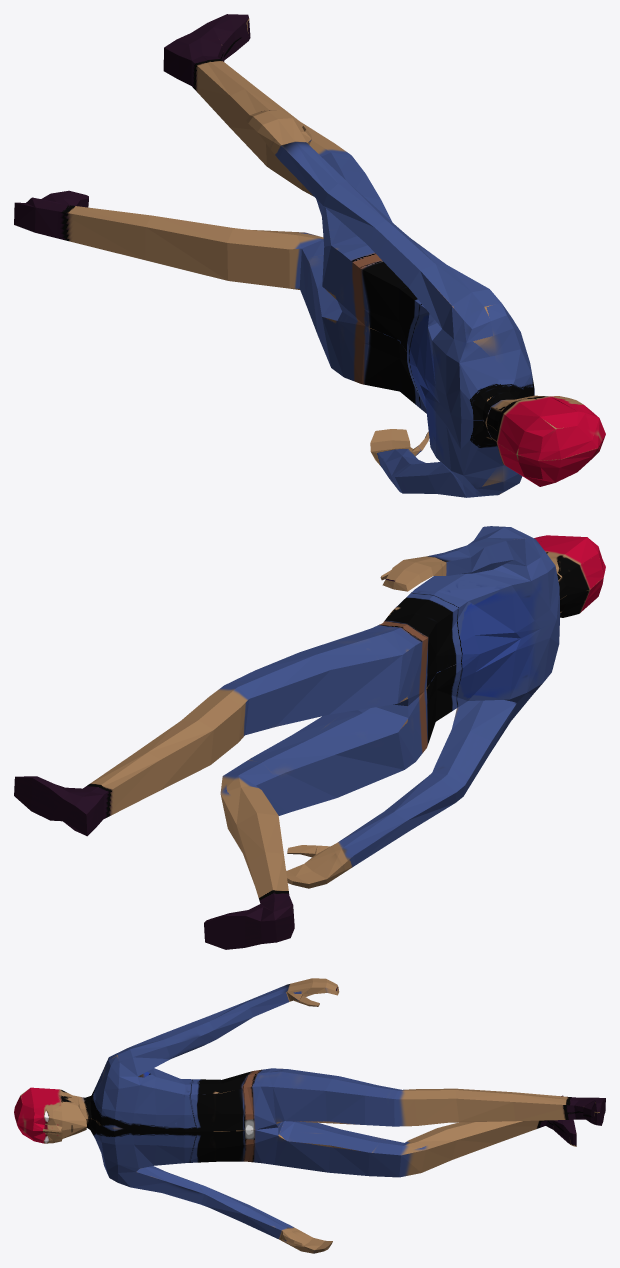
Rendered from mirrorman_000015.obj.
The picture shows the model from 3 angles, top to bottom: view 1: azimuth 30°, elevation 25°; view 2: azimuth 150°, elevation 25°; view 3: azimuth 270°, elevation 25°; orthographic projection. The views are drawn at different scales.
Parts seen in each view (by area): view 1: mirrorman_Cube.001_Material.001; view 2: mirrorman_Cube.001_Material.001; view 3: mirrorman_Cube.001_Material.001.
Part boxes in pixels (bbox=[...]): mirrorman_Cube.001_Material.001: bbox=[14, 14, 605, 497]; mirrorman_Cube.001_Material.001: bbox=[14, 526, 605, 949]; mirrorman_Cube.001_Material.001: bbox=[14, 978, 605, 1253].
Size of the model in its own units: 0.6149 by 0.8111 by 1.88.
